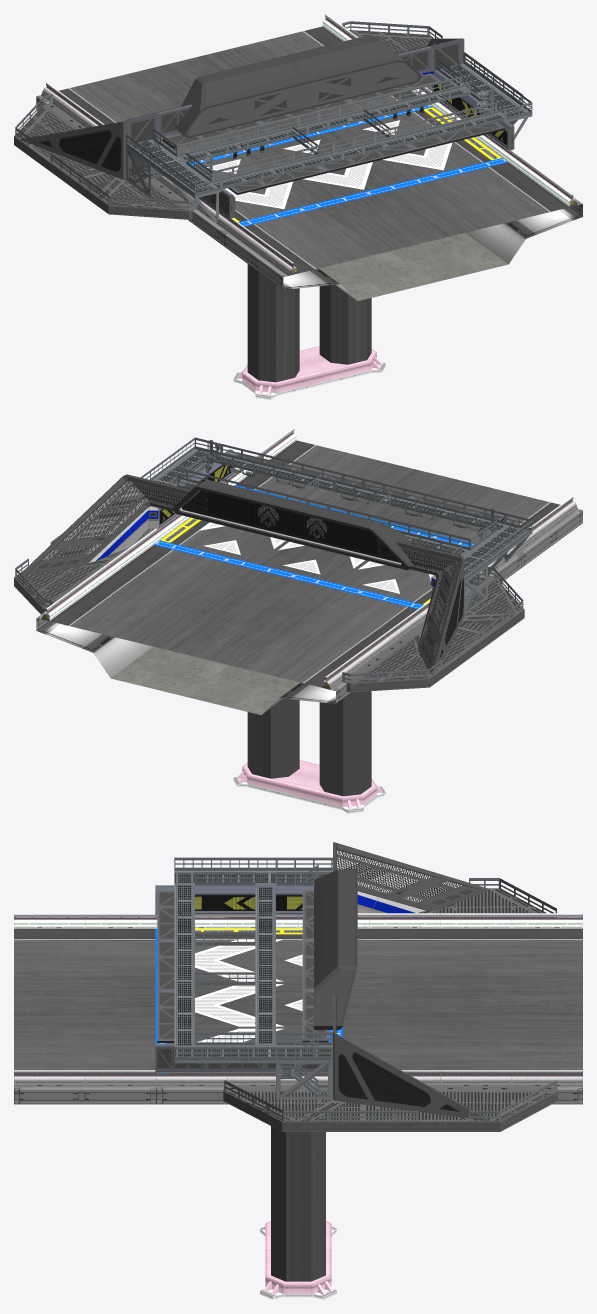
File: T1 - Boost.fbx
3 views of the same model, one above another, from view 1: azimuth 30°, elevation 25°; view 2: azimuth 150°, elevation 25°; view 3: azimuth 270°, elevation 25° (orthographic). The views are drawn at different scales.
Parts seen in each view (by area): view 1: standard_road, gat_sta_boost_bridge, gat_sta_boost_medium, standard_bridge, support_pylon, support_ground, wall_straight_elevated, barrier_elevated2; view 2: standard_road, gat_sta_boost_medium, gat_sta_boost_bridge, standard_bridge, support_pylon, wall_straight_elevated, support_ground, barrier_elevated2; view 3: standard_road, gat_sta_boost_medium, gat_sta_boost_bridge, barrier_elevated2, support_pylon, wall_straight_elevated, standard_bridge, support_ground.
Part boxes in pixels (x1,y1,x2,y2): standard_road: (59, 26, 568, 273); gat_sta_boost_bridge: (157, 35, 505, 194); gat_sta_boost_medium: (14, 21, 532, 226); standard_bridge: (36, 95, 582, 300); support_pylon: (247, 264, 371, 382); support_ground: (233, 346, 385, 399); wall_straight_elevated: (41, 19, 574, 275); barrier_elevated2: (46, 14, 577, 275); standard_road: (50, 440, 560, 687); gat_sta_boost_medium: (14, 437, 532, 692); gat_sta_boost_bridge: (156, 444, 505, 573); standard_bridge: (36, 509, 582, 715); support_pylon: (247, 691, 371, 796); wall_straight_elevated: (44, 431, 577, 689); support_ground: (233, 760, 385, 813); barrier_elevated2: (41, 428, 573, 689); standard_road: (14, 928, 582, 1073); gat_sta_boost_medium: (155, 842, 557, 1131); gat_sta_boost_bridge: (157, 860, 357, 1045); barrier_elevated2: (14, 913, 582, 1086); support_pylon: (271, 1126, 325, 1281); wall_straight_elevated: (14, 913, 582, 1086); standard_bridge: (14, 1087, 582, 1104); support_ground: (260, 1221, 336, 1299).
Bounding box in the file's own units: 6216 × 4286 × 6400.
